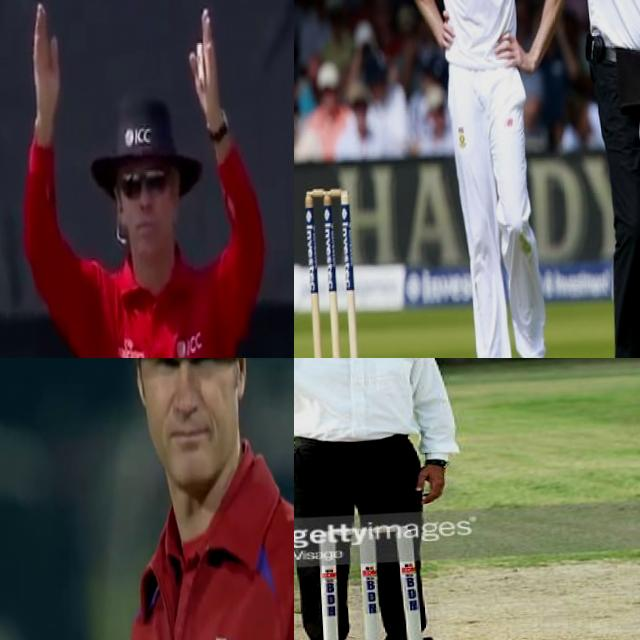No_Action: (67, 358, 294, 640)
No_Ball: (462, 0, 640, 358), (294, 358, 514, 640)
Six: (6, 0, 274, 358)
